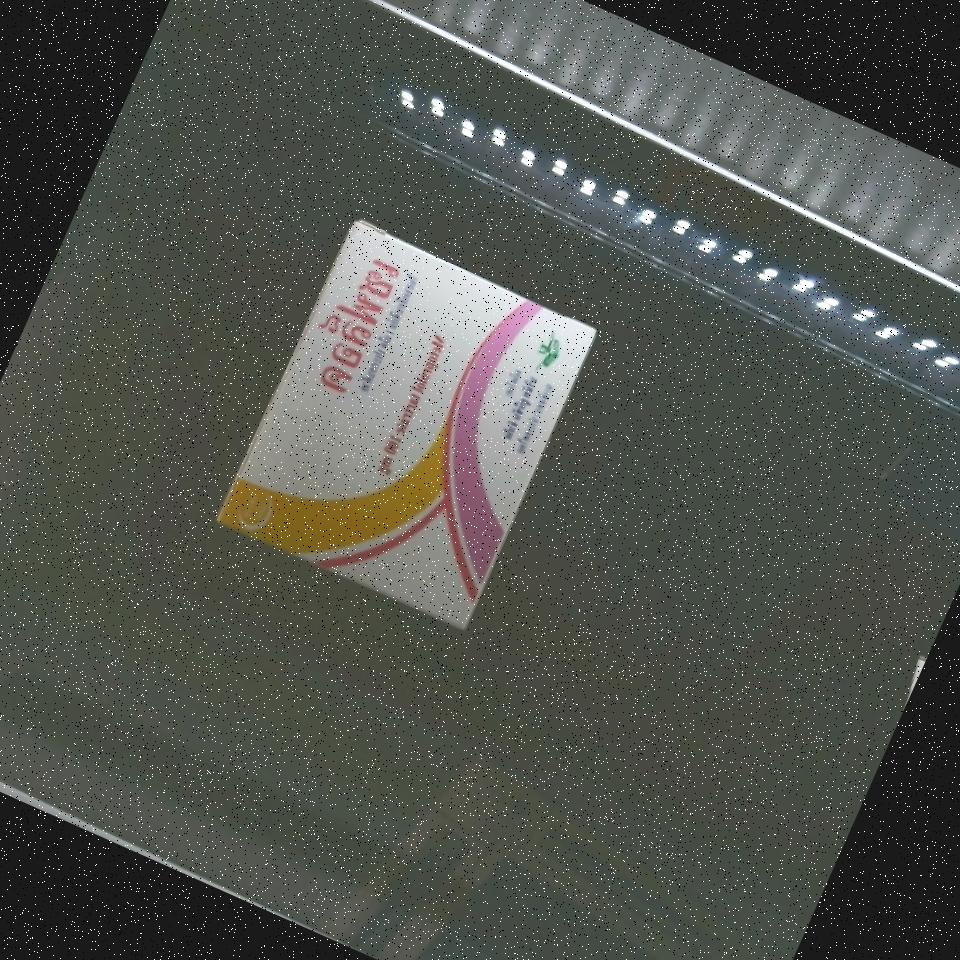sefloc: (214, 220, 598, 636)
